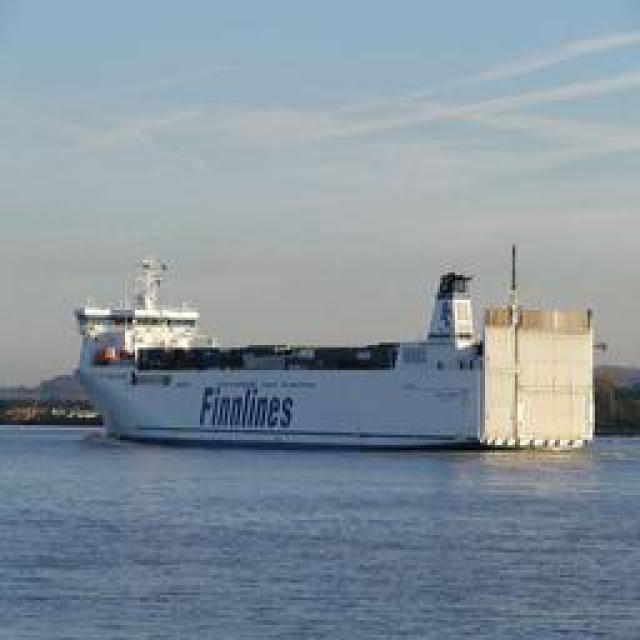Ship: (59, 249, 602, 452)
